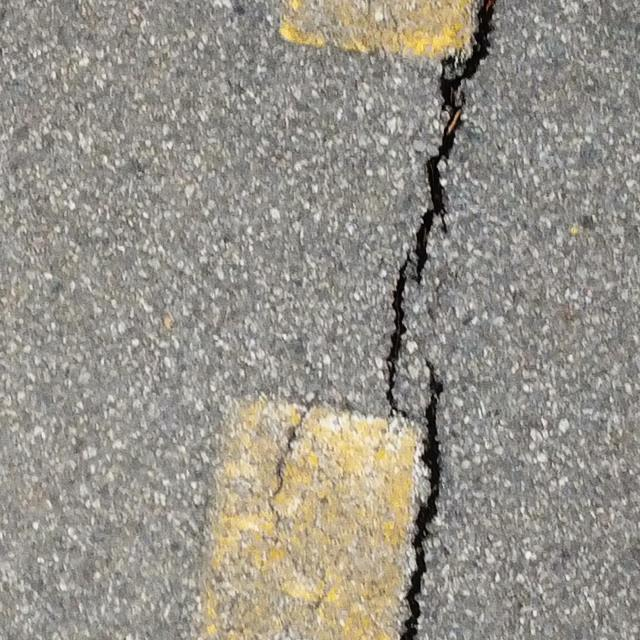LongitudinalCrack: (383, 1, 497, 424), (396, 357, 445, 640)
